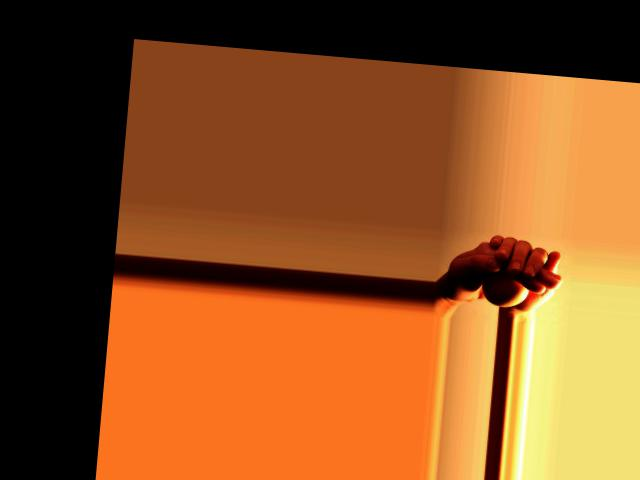egg: (479, 272, 529, 308)
